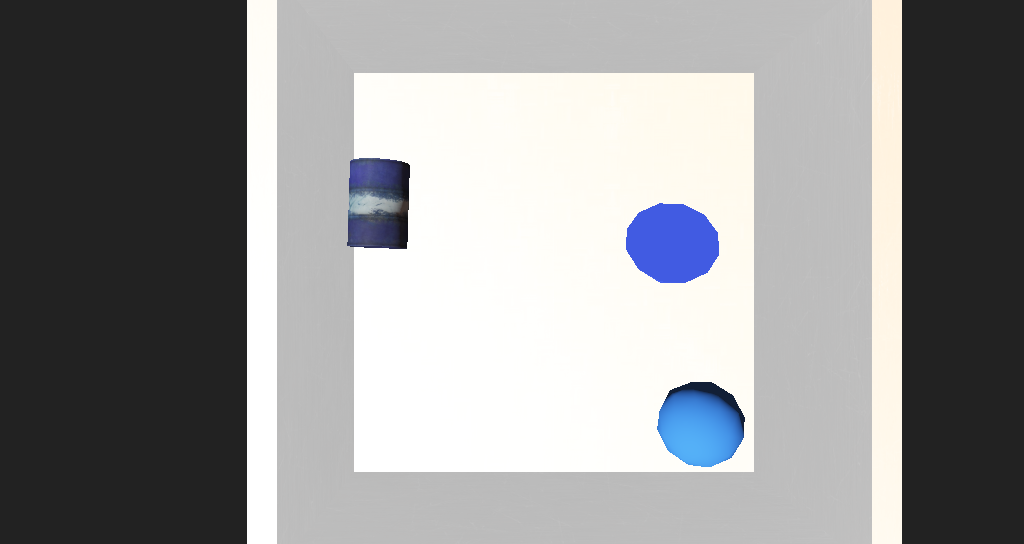cone: (344, 205, 397, 253)
cylinder: (546, 229, 627, 296)
sphere: (579, 327, 647, 370)
